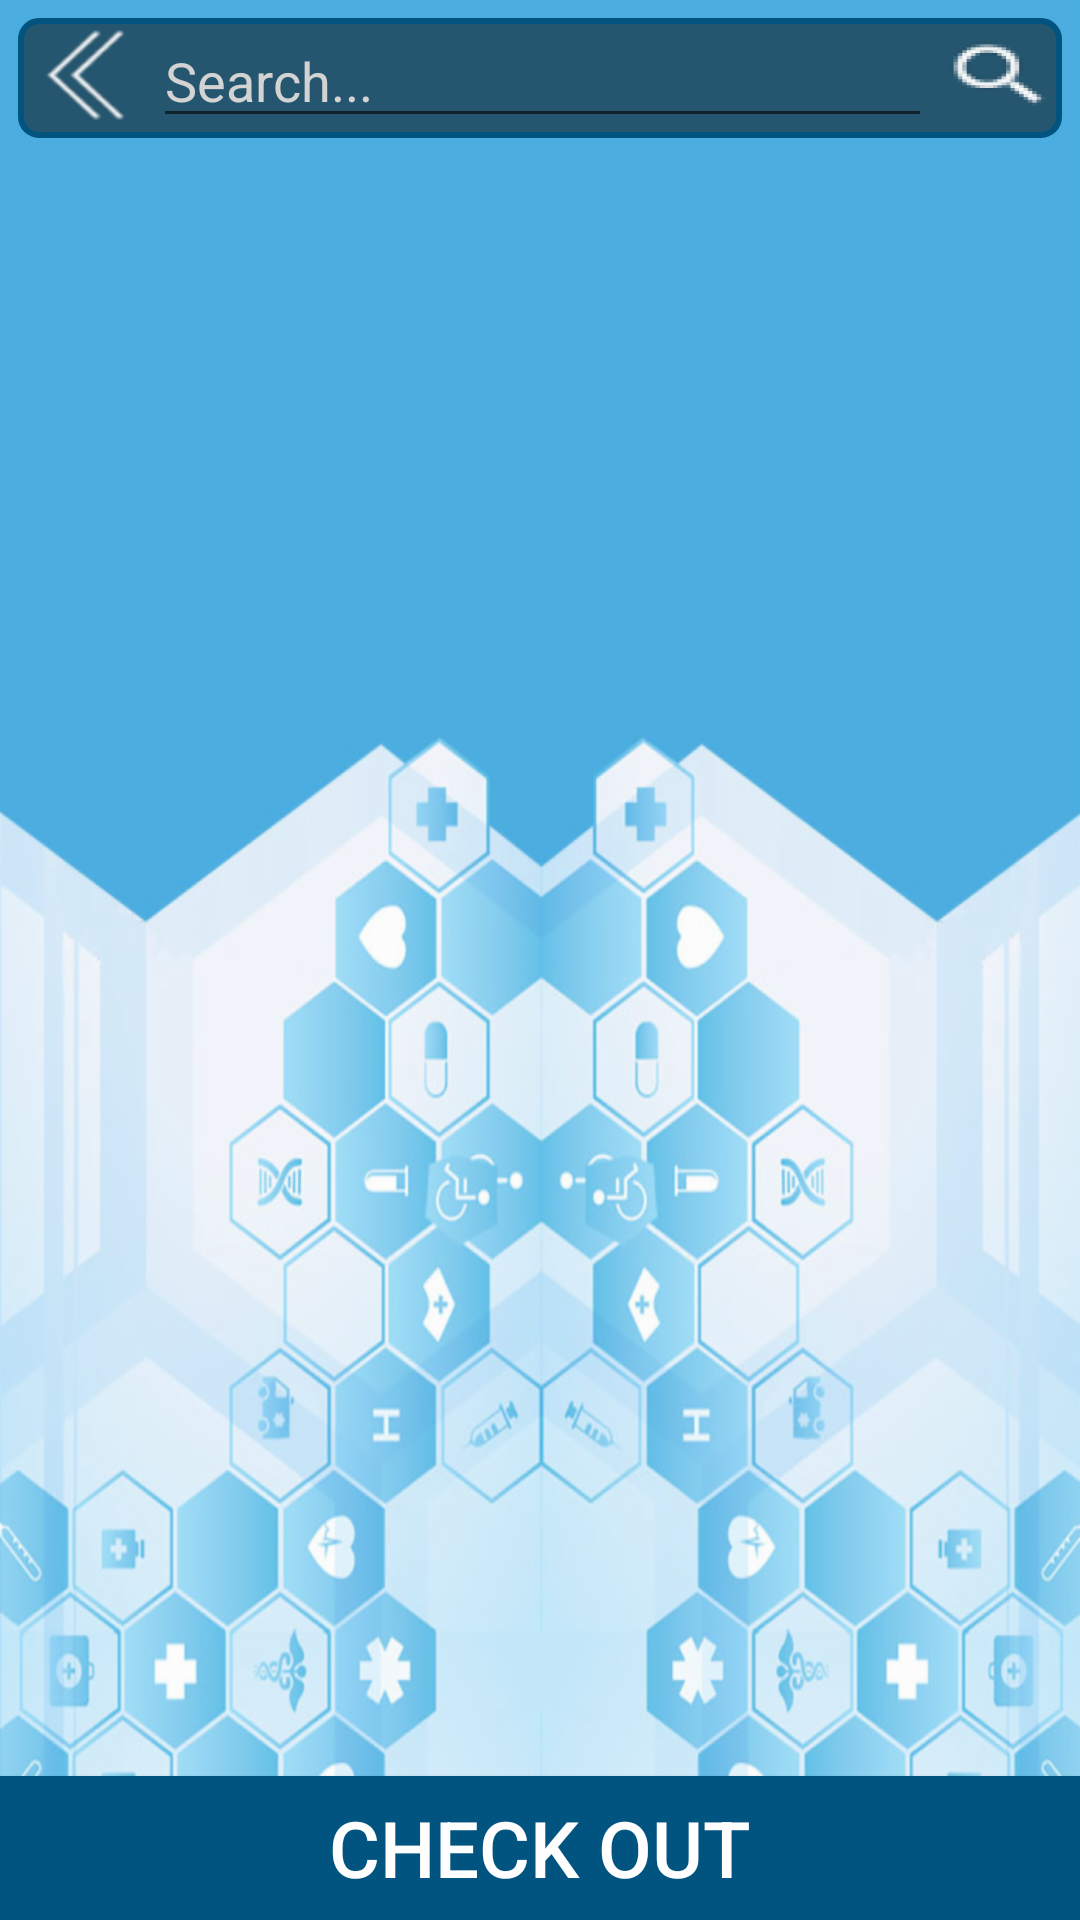

Named icons in this screenshot (1080×1920) and their centers, (x=x, y=y):
back: (x=85, y=75)
